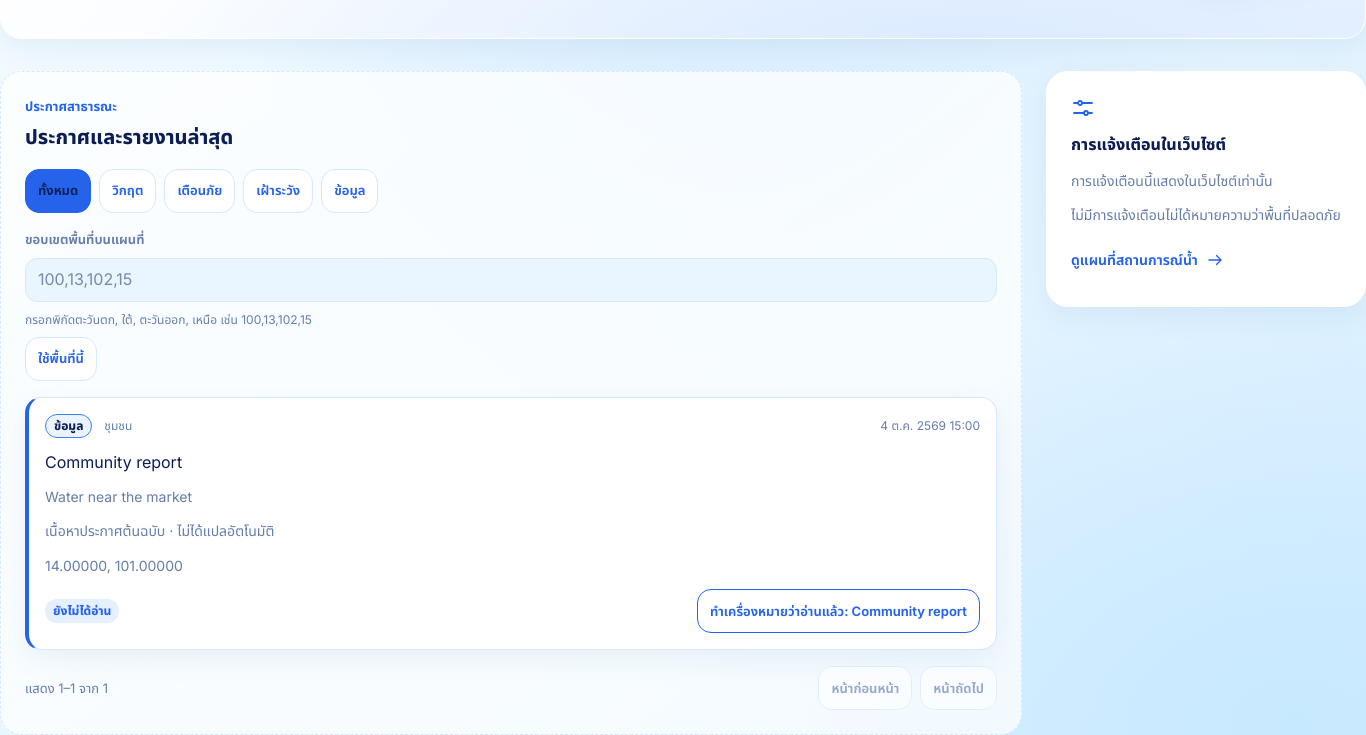
it: NotificationsPage public feed › stores public read state in the browser
(page scrolled)
Click the button "ทำเครื่องหมายว่าอ่านแล้ว: Community report": (838, 611) [697,589,980,633]
(page scrolled)
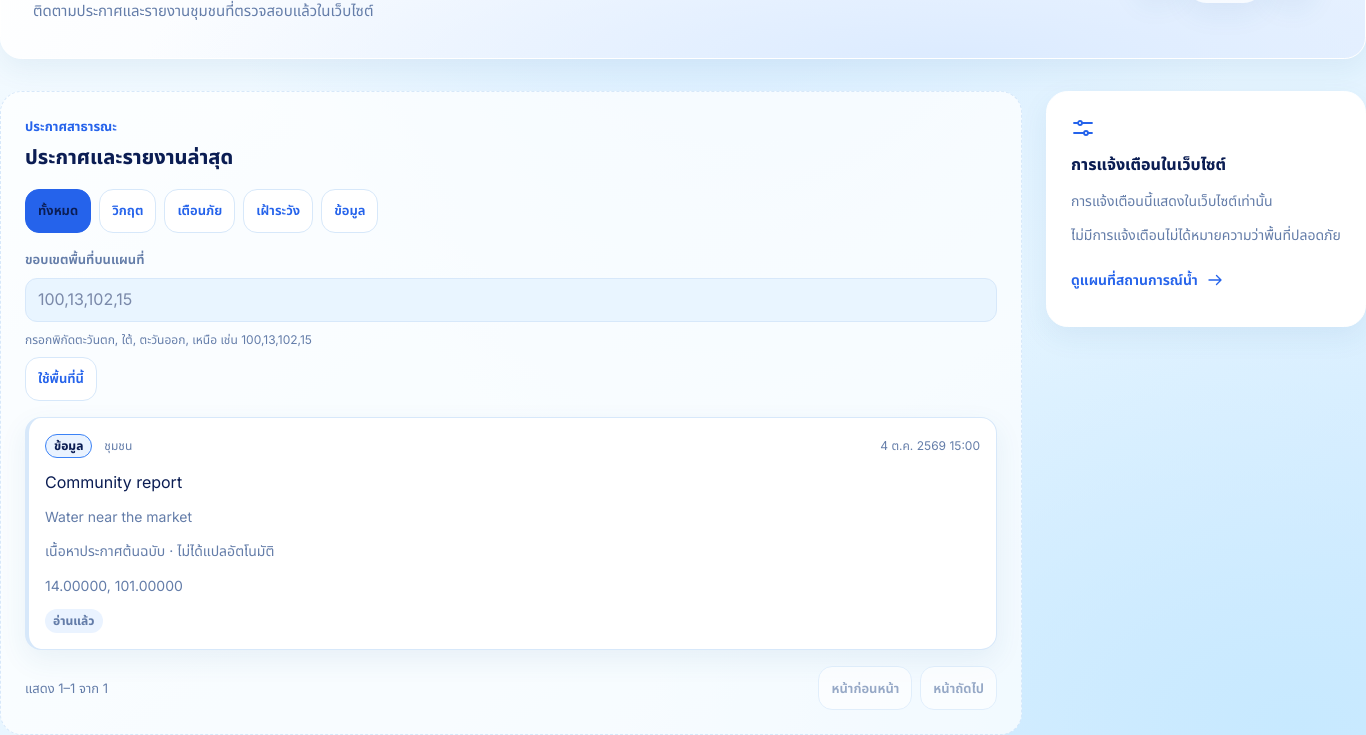
Result: the text "อ่านแล้ว" is shown at [45,609,102,633]
